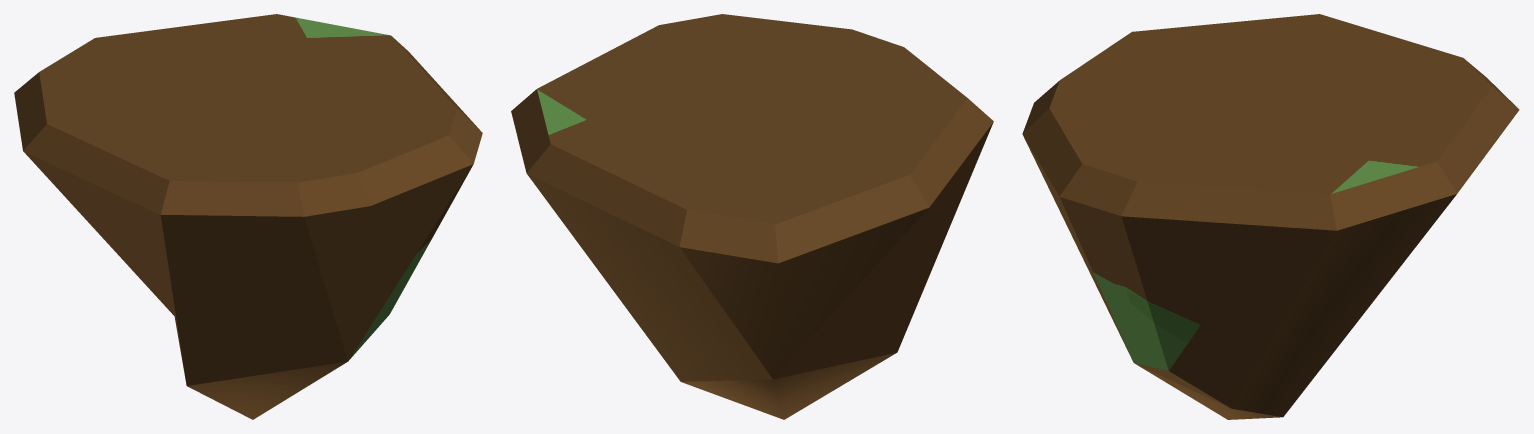
The model's file is floating island with house.fbx.
The picture shows the model from 3 angles, left to right: view 1: azimuth 30°, elevation 25°; view 2: azimuth 150°, elevation 25°; view 3: azimuth 270°, elevation 25°; orthographic projection. The views are drawn at different scales.
Parts seen in each view (by area): view 1: floating_island1; view 2: floating_island1; view 3: floating_island1.
Boxes of the visible parts, x1=… form: floating_island1: x1=14, y1=14, x2=482, y2=419; floating_island1: x1=511, y1=14, x2=993, y2=419; floating_island1: x1=1022, y1=14, x2=1519, y2=419.
Size of the model in its own units: 2.78 by 2.06 by 2.89.
